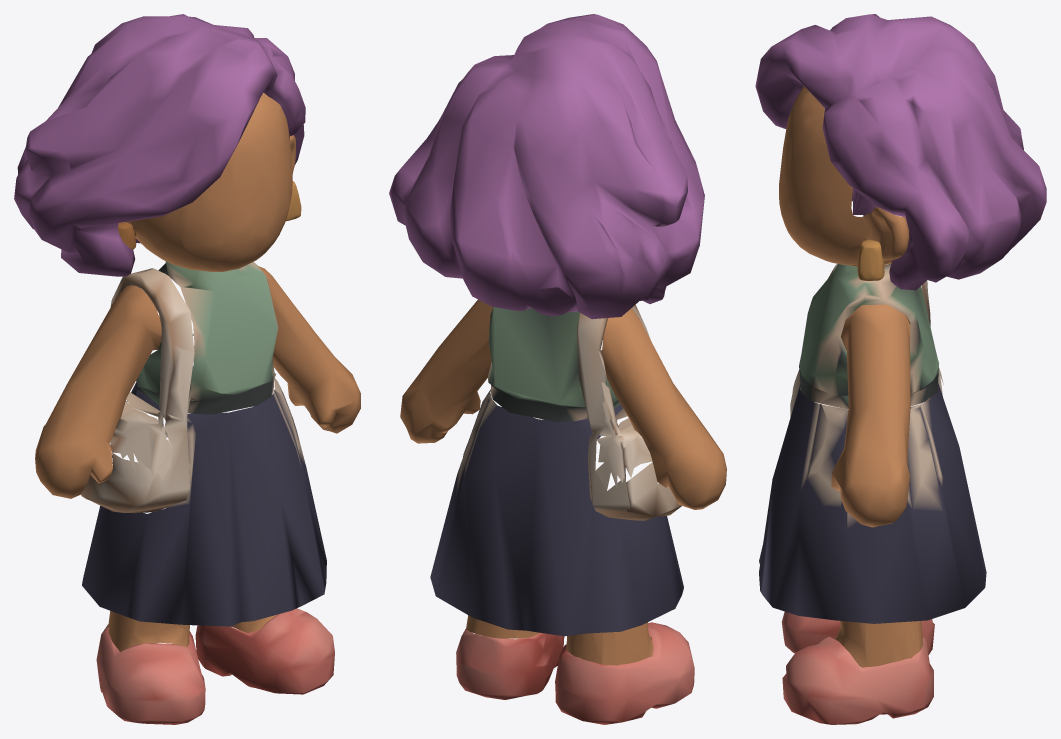
3 renders of one model, left to right at view 1: azimuth 30°, elevation 25°; view 2: azimuth 150°, elevation 25°; view 3: azimuth 270°, elevation 25°, orthographic.
Parts seen in each view (by area): view 1: top, hair, head, hand_r, shoe_l, shoe_r, hand_l, sleeve_r, leg_r; view 2: hair, top, hand_r, shoe_r, hand_l, shoe_l, sleeve_r, leg_r, leg_l; view 3: hair, top, hand_l, head, shoe_l, leg_l, shoe_r, acc_head_earl.
Boxes of the visible parts, left/top/right/bottom form: top: left=80, top=261, right=326, bottom=626; hair: left=14, top=14, right=305, bottom=276; head: left=126, top=93, right=295, bottom=271; hand_r: left=35, top=285, right=161, bottom=498; shoe_l: left=195, top=608, right=334, bottom=694; shoe_r: left=96, top=624, right=205, bottom=724; hand_l: left=258, top=266, right=360, bottom=433; sleeve_r: left=110, top=401, right=172, bottom=481; leg_r: left=108, top=611, right=189, bottom=652; hair: left=389, top=14, right=704, bottom=319; top: left=430, top=287, right=683, bottom=636; hand_r: left=601, top=308, right=726, bottom=509; shoe_r: left=555, top=622, right=694, bottom=724; hand_l: left=400, top=299, right=493, bottom=443; shoe_l: left=456, top=629, right=564, bottom=699; sleeve_r: left=595, top=382, right=652, bottom=490; leg_r: left=566, top=622, right=653, bottom=665; leg_l: left=466, top=615, right=539, bottom=638; hair: left=755, top=14, right=1046, bottom=290; top: left=759, top=247, right=986, bottom=623; hand_l: left=831, top=304, right=910, bottom=527; head: left=779, top=86, right=909, bottom=266; shoe_l: left=782, top=636, right=933, bottom=724; leg_l: left=836, top=621, right=922, bottom=667; shoe_r: left=781, top=611, right=934, bottom=654; acc_head_earl: left=857, top=240, right=884, bottom=280.
Size of the model in its own units: 0.5163 by 1.03 by 0.4178.
